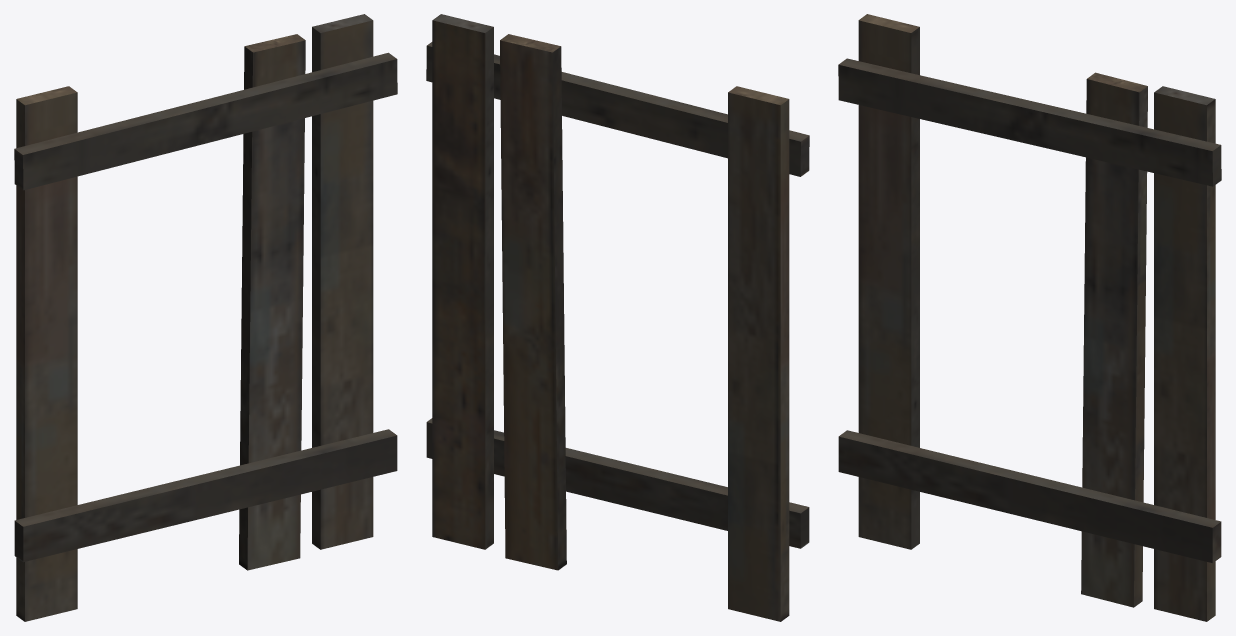
File: bz_brk_wood_dmg01.fbx
3 renders of one model, left to right at view 1: azimuth 30°, elevation 25°; view 2: azimuth 150°, elevation 25°; view 3: azimuth 330°, elevation 25°, orthographic.
Visible parts, largest first — view 1: br_wood1_dmg03, br_wood1_dmg05, br_wood1_dmg02, br_wood1_dmg04, br_wood1_dmg01, br_wood1_dmg06, br_wood1_dmg07, br_wood1_dmg08; view 2: br_wood1_dmg05, br_wood1_dmg03, br_wood1_dmg04, br_wood1_dmg02, br_wood1_dmg07, br_wood1_dmg08, br_wood1_dmg06, br_wood1_dmg01; view 3: br_wood1_dmg05, br_wood1_dmg03, br_wood1_dmg02, br_wood1_dmg04, br_wood1_dmg01, br_wood1_dmg06, br_wood1_dmg08, br_wood1_dmg07.
Part boxes in pixels (x1,y1,x2,y2): br_wood1_dmg03: (16,86,77,621); br_wood1_dmg05: (312,14,373,549); br_wood1_dmg02: (14,429,397,562); br_wood1_dmg04: (239,250,303,570); br_wood1_dmg01: (170,52,397,152); br_wood1_dmg06: (14,97,222,190); br_wood1_dmg07: (242,37,290,258); br_wood1_dmg08: (263,34,305,266); br_wood1_dmg05: (432,14,493,549); br_wood1_dmg03: (728,86,789,621); br_wood1_dmg04: (502,250,566,570); br_wood1_dmg02: (426,418,809,548); br_wood1_dmg07: (515,37,563,258); br_wood1_dmg08: (500,34,542,266); br_wood1_dmg06: (601,84,809,176); br_wood1_dmg01: (426,42,653,139); br_wood1_dmg05: (1154,86,1215,621); br_wood1_dmg03: (858,14,919,549); br_wood1_dmg02: (838,430,1221,563); br_wood1_dmg04: (1081,281,1145,607); br_wood1_dmg01: (985,104,1221,186); br_wood1_dmg06: (838,58,1046,133); br_wood1_dmg08: (1096,82,1147,316); br_wood1_dmg07: (1084,72,1132,288).
Size of the model in its own units: 0.9766 by 1.3 by 0.0803.
